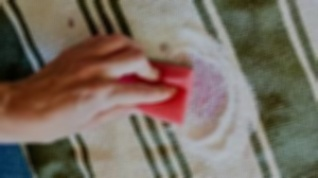wine: (183, 71, 220, 117)
